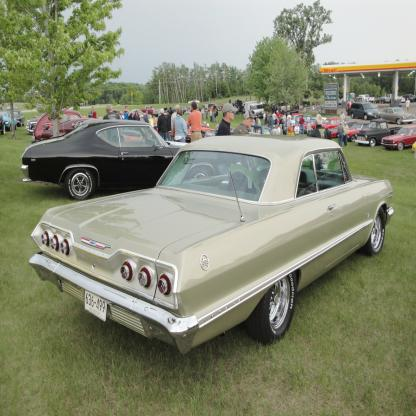Car: (0, 94, 416, 358)
